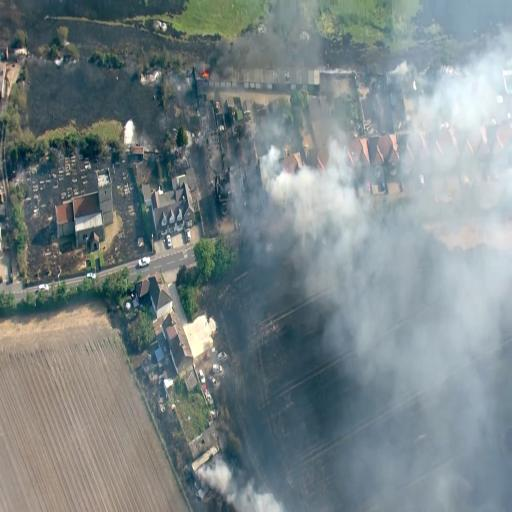smoke: (333, 208, 512, 367), (269, 146, 346, 227)
